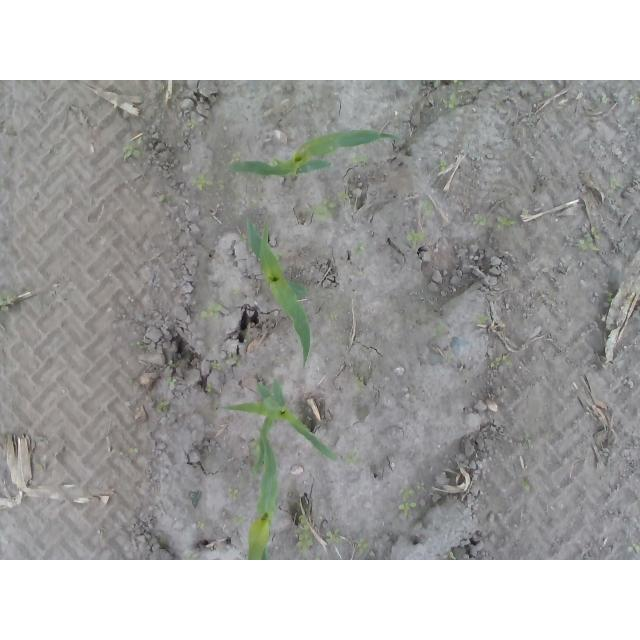Maize: (217, 379, 340, 477), (243, 216, 312, 367), (227, 130, 399, 179), (246, 426, 280, 560)
Weeds: (396, 481, 425, 512), (297, 513, 315, 548), (574, 227, 599, 251), (447, 81, 464, 112), (315, 197, 336, 218), (489, 351, 512, 370), (403, 231, 426, 249), (199, 301, 220, 320), (433, 317, 451, 338), (495, 213, 514, 231), (0, 289, 18, 308), (120, 143, 140, 160), (350, 153, 371, 167), (328, 528, 345, 545), (344, 447, 360, 465), (356, 538, 368, 559), (472, 212, 489, 226), (422, 198, 434, 217), (477, 311, 493, 325), (193, 174, 207, 190), (624, 541, 640, 555), (521, 431, 533, 449), (233, 513, 247, 528), (228, 488, 241, 501), (609, 176, 620, 191), (627, 94, 640, 106), (186, 119, 200, 130), (355, 240, 364, 257), (158, 398, 170, 410), (354, 374, 366, 386), (439, 159, 450, 171), (328, 311, 339, 323), (338, 191, 350, 201), (167, 375, 178, 385), (210, 361, 221, 371), (519, 479, 530, 489), (204, 384, 212, 394), (196, 520, 204, 529), (231, 153, 241, 160)
